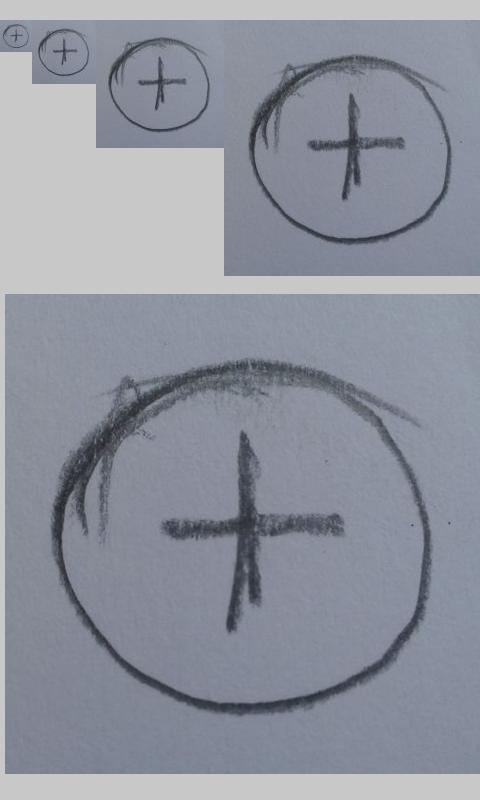button: (48, 355, 433, 720), (248, 54, 452, 246), (108, 37, 210, 133), (37, 28, 90, 77), (3, 24, 29, 48)
